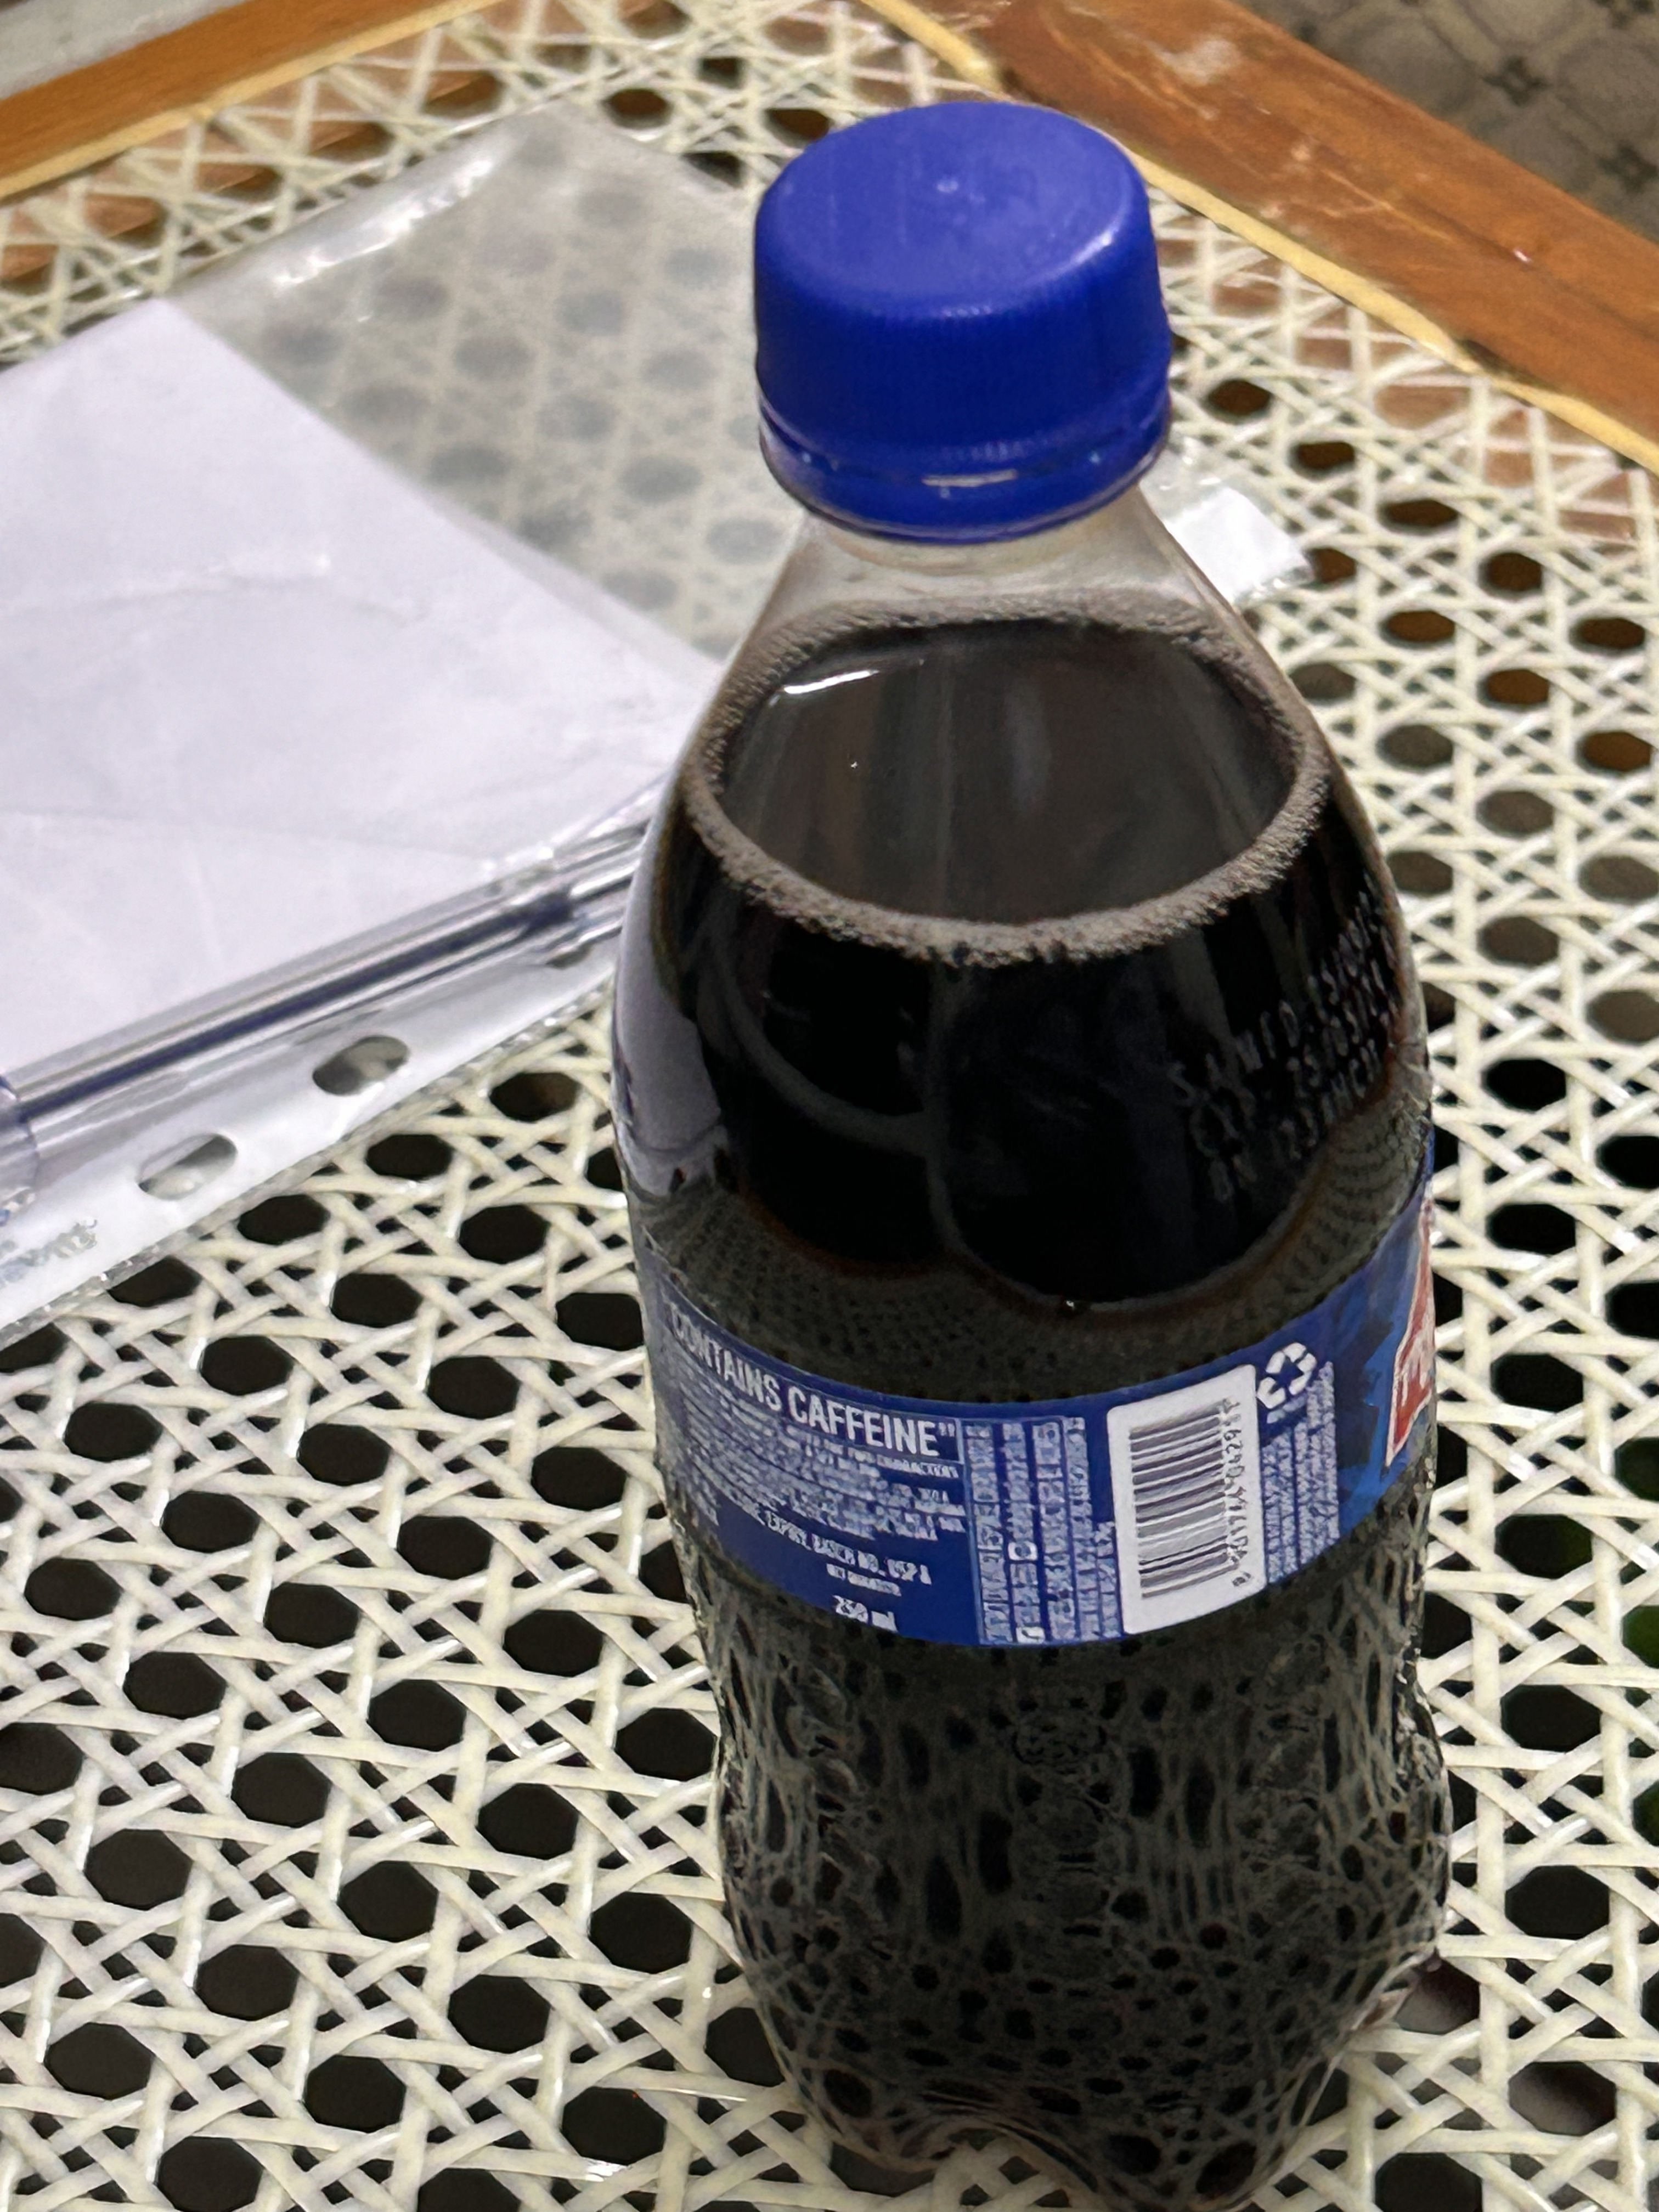unsealed: (716, 87, 1197, 563)
